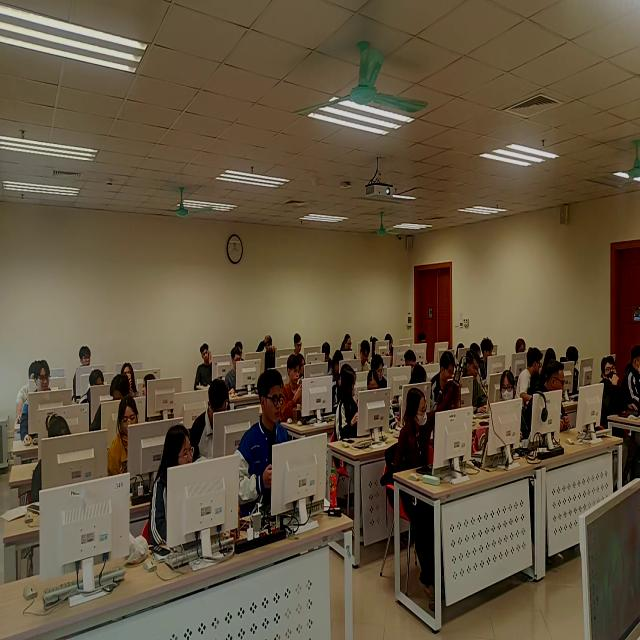raise_head: (236, 365, 291, 517), (148, 423, 197, 555), (601, 355, 625, 425), (73, 346, 95, 400), (193, 343, 213, 391), (298, 353, 307, 381)
using_computer: (29, 412, 76, 510), (191, 379, 231, 467), (529, 359, 573, 437), (21, 356, 58, 444), (107, 396, 141, 483), (92, 373, 132, 432), (465, 349, 488, 414), (17, 357, 37, 427), (623, 341, 640, 417), (78, 368, 104, 413), (227, 347, 245, 398), (565, 345, 583, 395), (472, 342, 488, 387), (261, 332, 279, 365), (483, 337, 496, 381), (374, 354, 390, 386), (328, 349, 343, 382), (418, 331, 430, 368), (358, 339, 370, 372), (367, 370, 382, 395), (344, 334, 357, 359), (321, 341, 332, 370), (514, 336, 527, 358), (236, 338, 247, 364), (404, 348, 416, 370), (456, 341, 465, 370), (295, 334, 305, 357), (372, 335, 381, 359), (386, 331, 394, 356)
using_phone: (284, 354, 305, 427), (122, 363, 140, 400)
